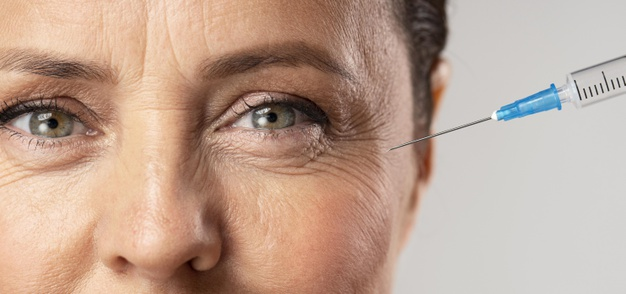PUFFY_EYES: (195, 74, 342, 171), (1, 72, 122, 169)
